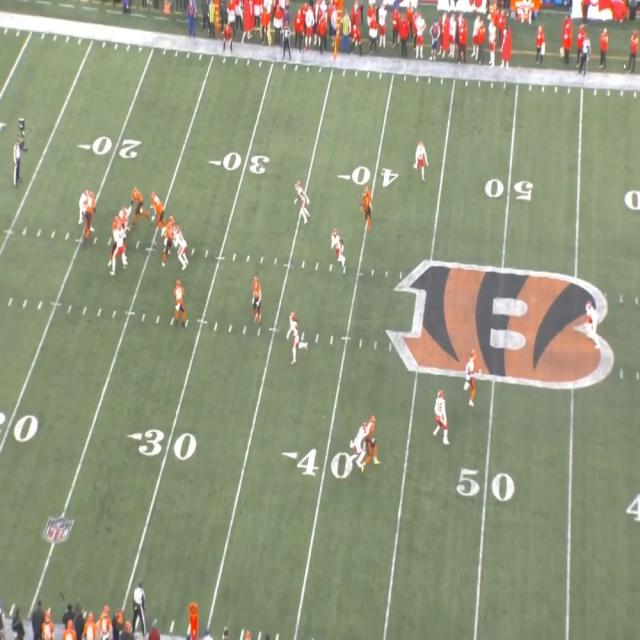db: (431, 389, 449, 441), (586, 302, 600, 351), (357, 420, 369, 468), (294, 178, 308, 215), (417, 141, 429, 174)
lb: (288, 311, 300, 367), (330, 229, 342, 263)
skill: (466, 352, 478, 407), (250, 276, 262, 322), (360, 187, 373, 228), (367, 416, 377, 466), (175, 278, 185, 324)
